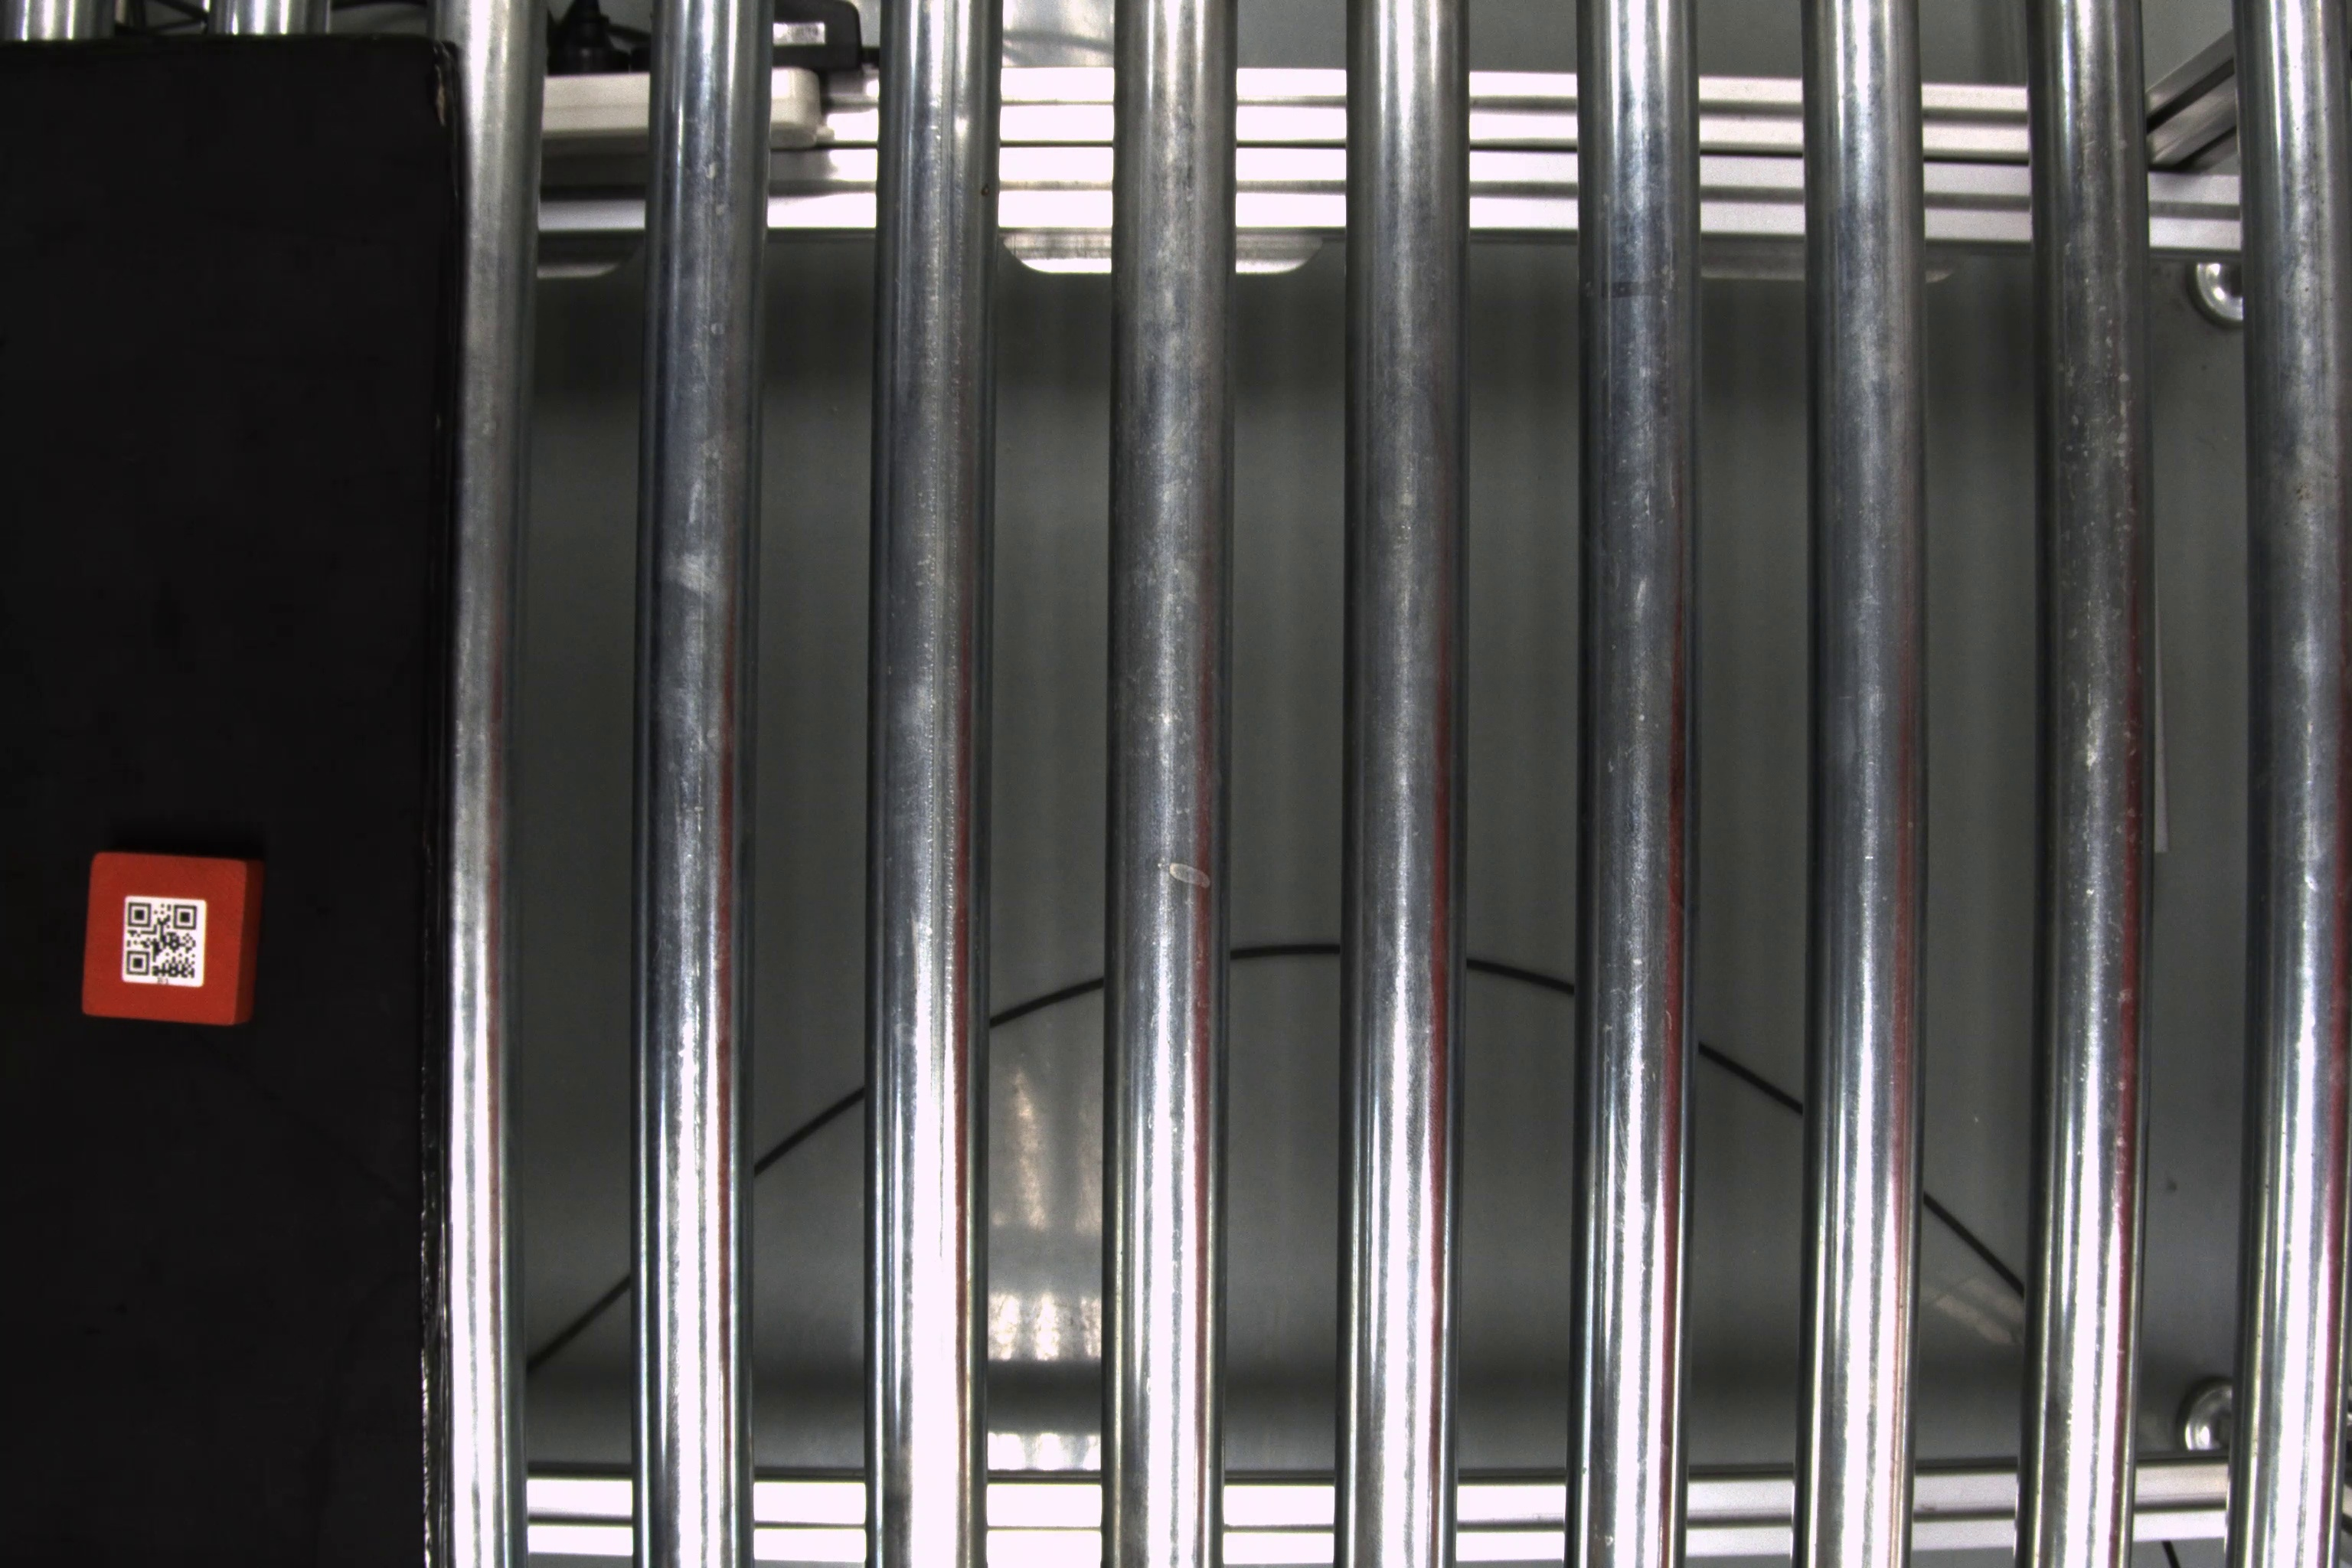wood: (73, 849, 269, 1031)
